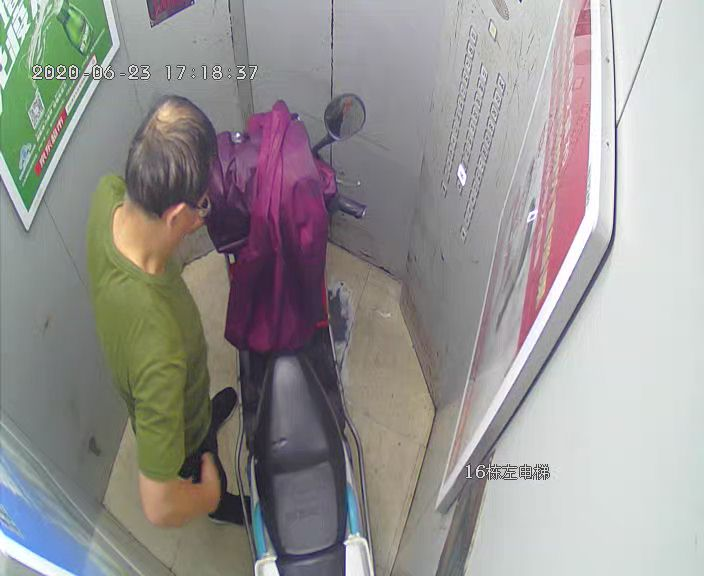Electric-bicycle: (219, 89, 367, 574)
